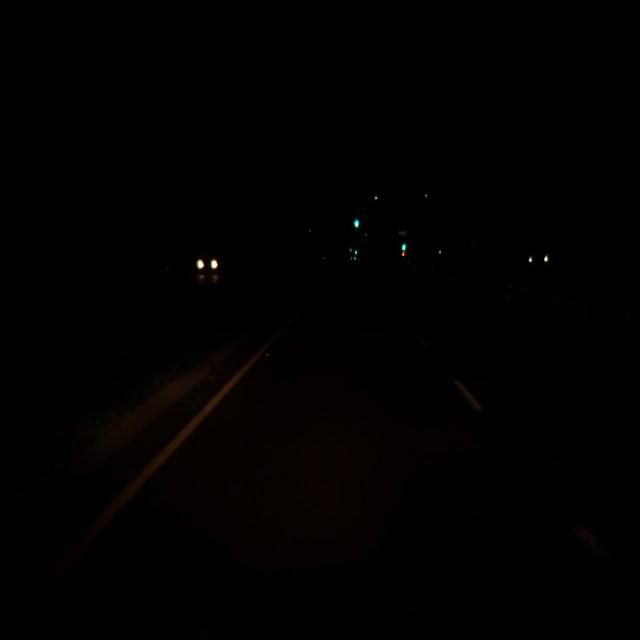go: (355, 221, 359, 225), (403, 245, 405, 248)
go traffic light: (353, 214, 359, 228), (402, 240, 406, 250)
